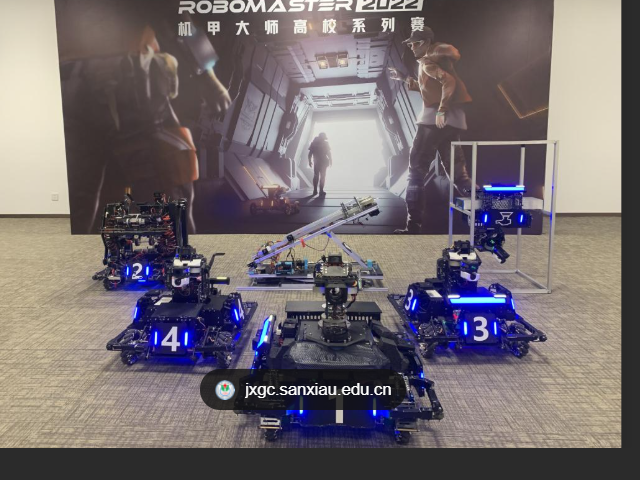rm: (244, 255, 442, 446), (387, 237, 546, 362), (452, 139, 550, 293), (110, 271, 255, 371), (101, 199, 201, 285)
